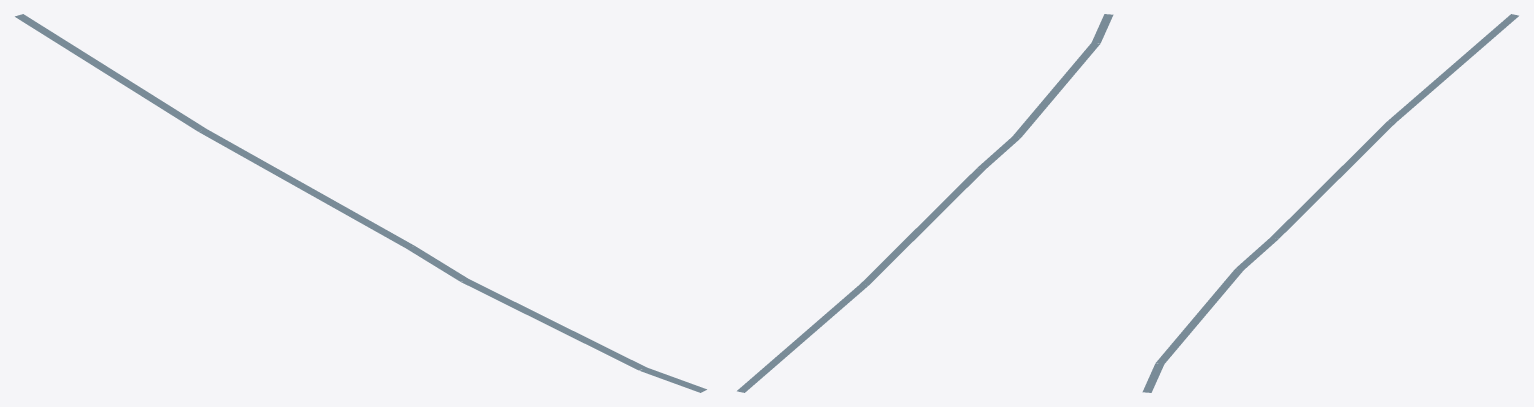
The picture shows the model from 3 angles, left to right: view 1: azimuth 30°, elevation 25°; view 2: azimuth 150°, elevation 25°; view 3: azimuth 330°, elevation 25°; orthographic projection. The views are drawn at different scales.
Bounding box in the file's own units: 59.03 × 0 × 414.
